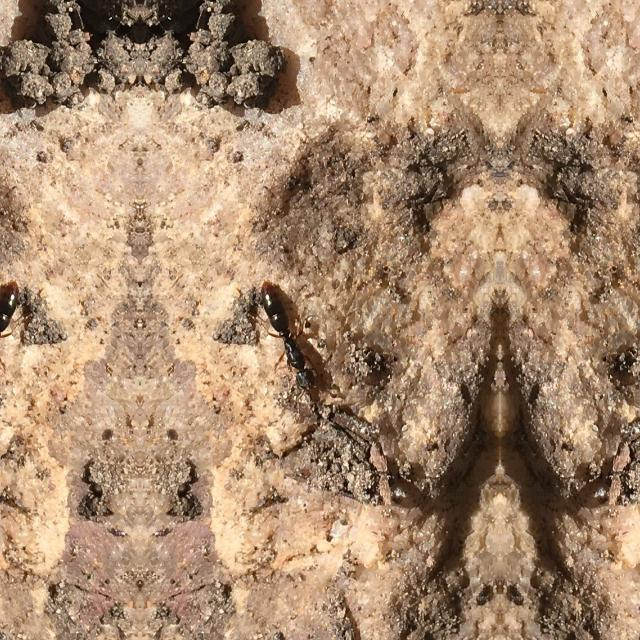Ponera: (232, 282, 342, 410), (0, 282, 44, 410)
